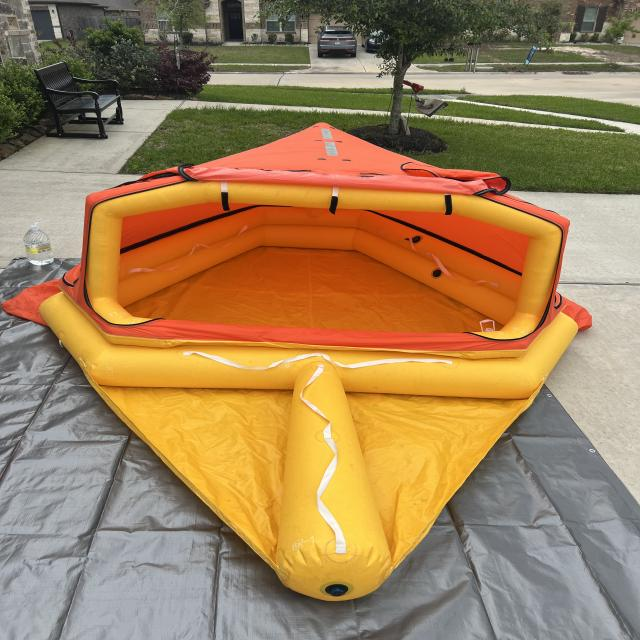Multi-person_life_raft: (0, 120, 593, 603)
